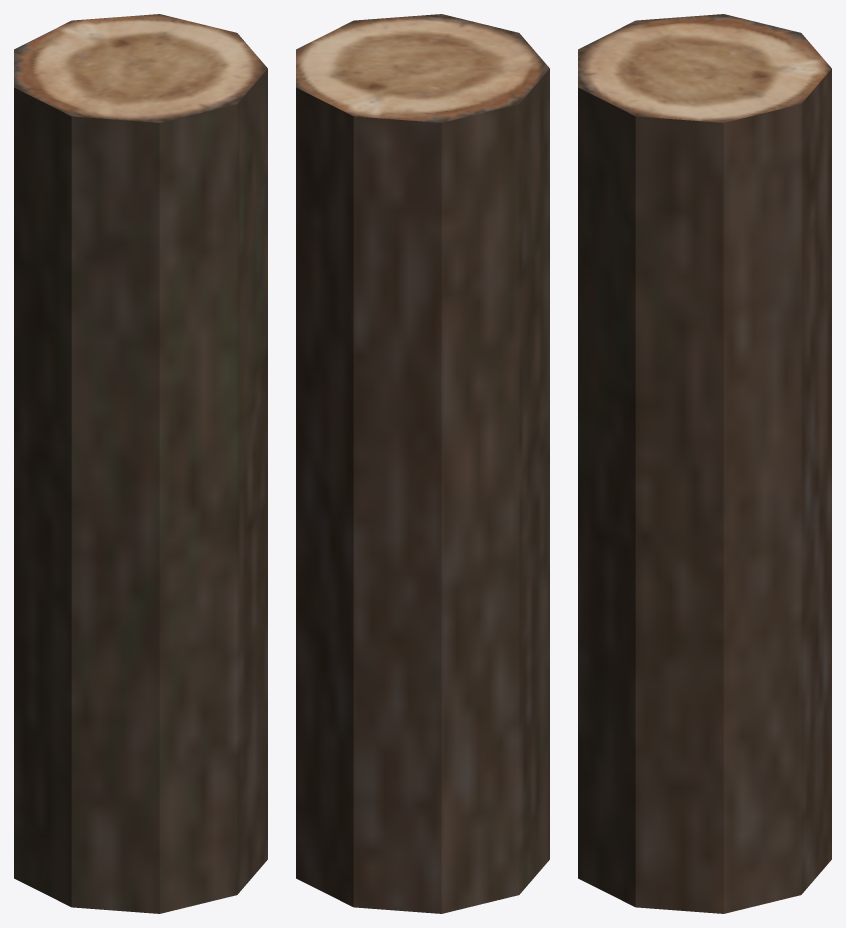
The model's file is sdwsk-timberman-log.fbx.
The picture shows the model from 3 angles, left to right: view 1: azimuth 30°, elevation 25°; view 2: azimuth 150°, elevation 25°; view 3: azimuth 270°, elevation 25°; orthographic projection.
Parts seen in each view (by area): view 1: sdwsk-timberman-log; view 2: sdwsk-timberman-log; view 3: sdwsk-timberman-log.
Part boxes in pixels (x1,y1,x2,y2): sdwsk-timberman-log: (14, 14, 267, 913); sdwsk-timberman-log: (296, 14, 549, 913); sdwsk-timberman-log: (578, 14, 831, 913).
Bounding box in the file's own units: 59.09 × 200 × 58.19.
Materials: 1 (1 with a texture image).
